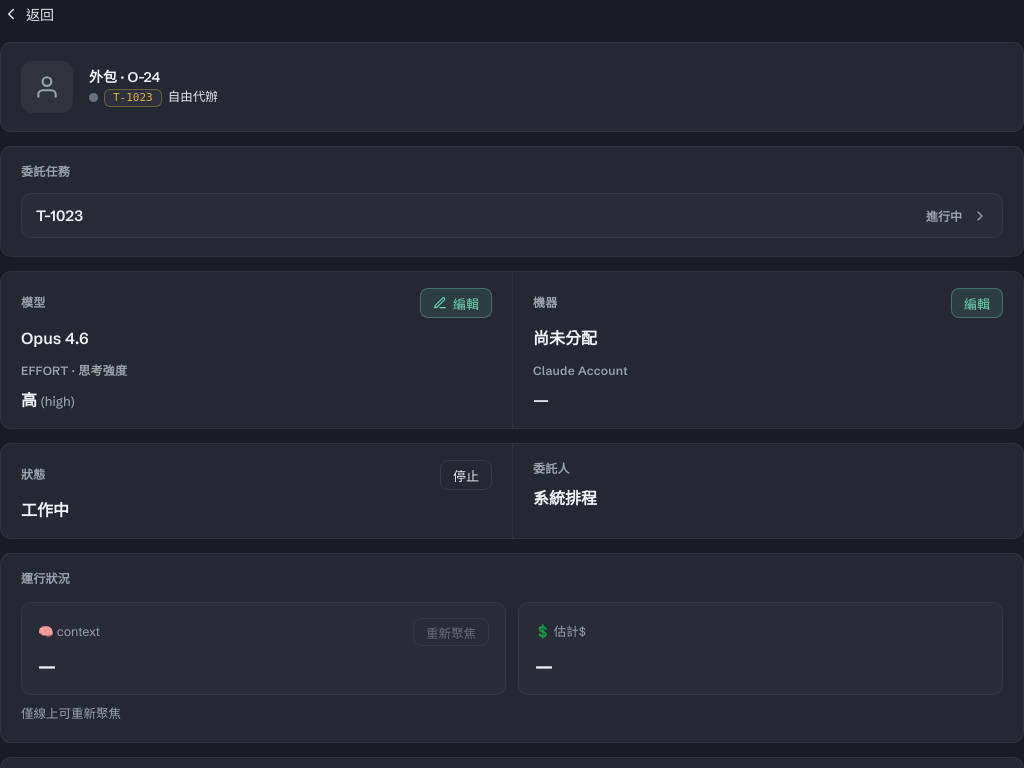
Test: WorkerDetailPanel — 改機器 relocate (T-f190 item 3) › with TWO online machines, 改機器 opens the machine picker
The width and height of the screenshot is (1024, 768).
Click the button with test id "worker-detail-relocate". click: click(977, 303)
box: [951,288,1003,318]
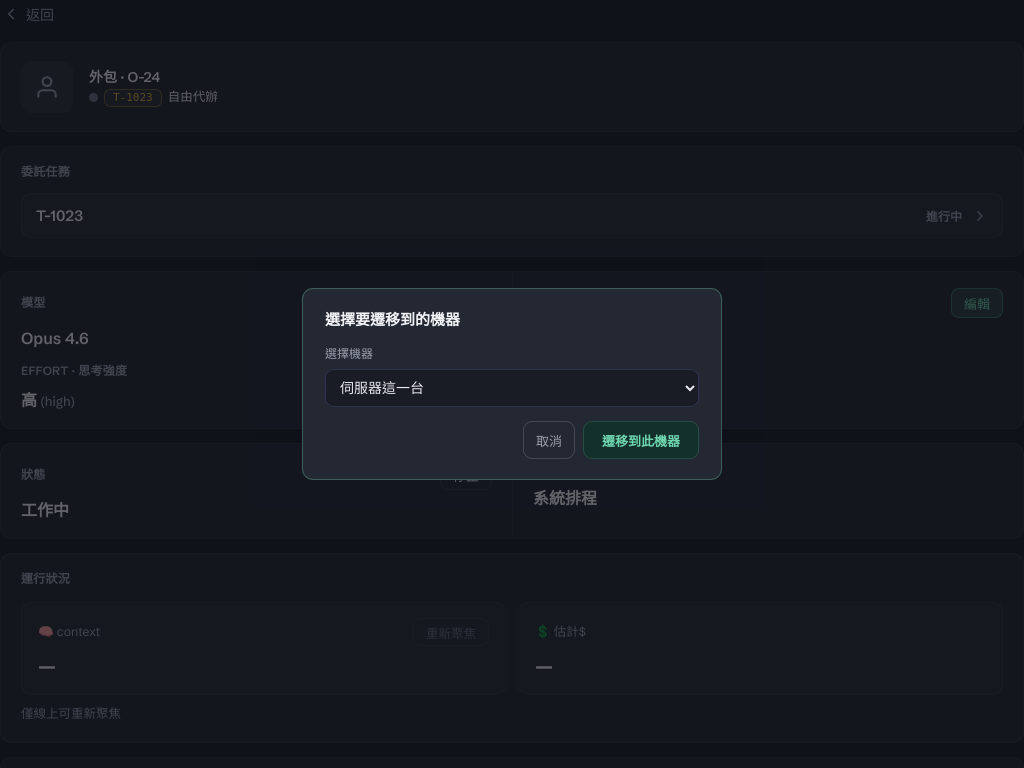
Expected: the dialog with test id "machine-picker" is shown
